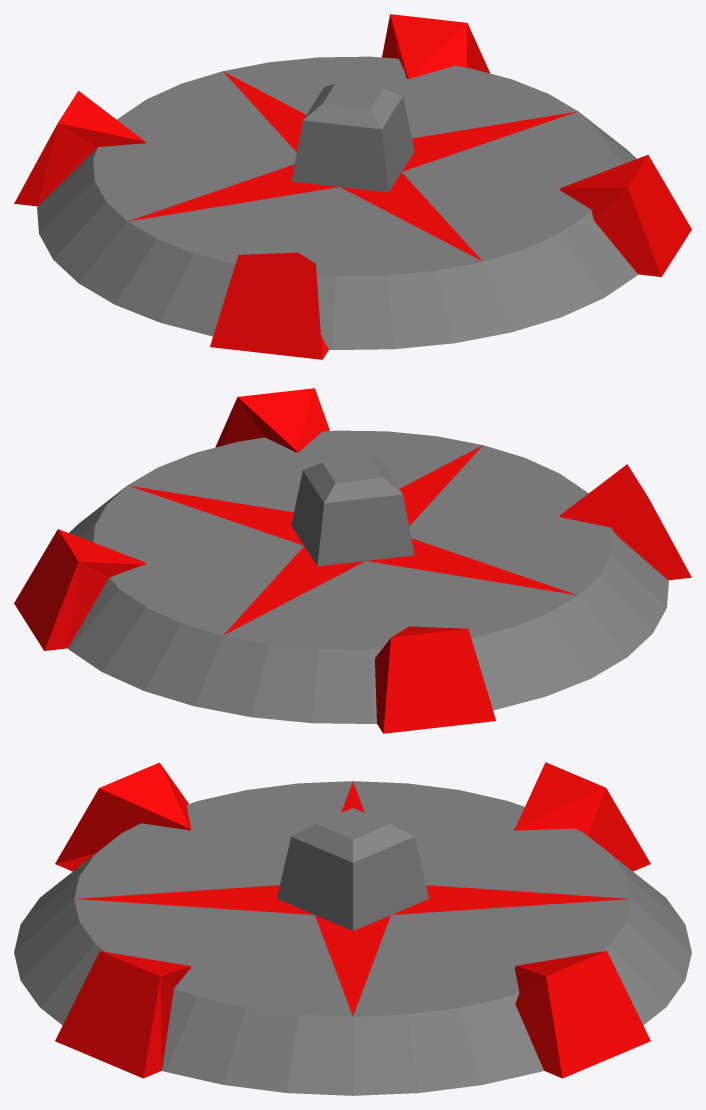
The model's file is Beyblade_Base_Fire.fbx.
3 views of the same model, one above another, from view 1: azimuth 30°, elevation 25°; view 2: azimuth 150°, elevation 25°; view 3: azimuth 270°, elevation 25° (orthographic). The views are drawn at different scales.
Visible parts, largest first — view 1: Circle; view 2: Circle; view 3: Circle.
Part boxes in pixels (bbox=[...]): Circle: bbox=[14, 14, 691, 359]; Circle: bbox=[14, 388, 691, 733]; Circle: bbox=[14, 762, 691, 1095].
Bounding box in the file's own units: 200 × 41.92 × 200.
1 material, 1 textured.
